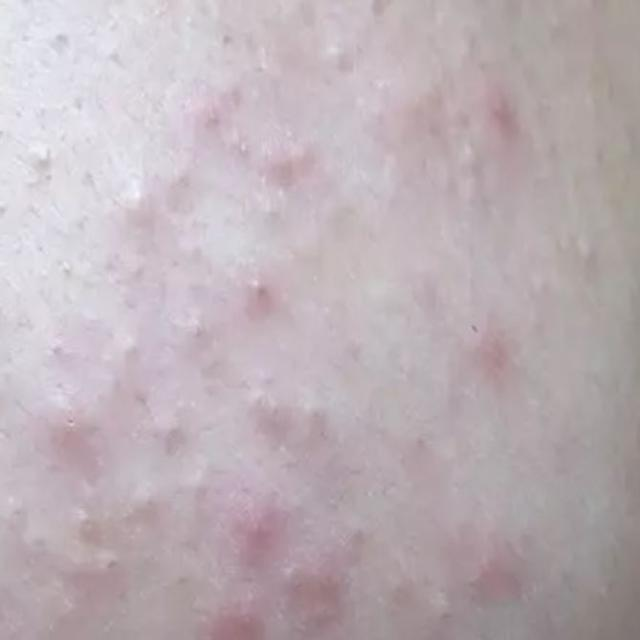fungal: (24, 17, 608, 640)
